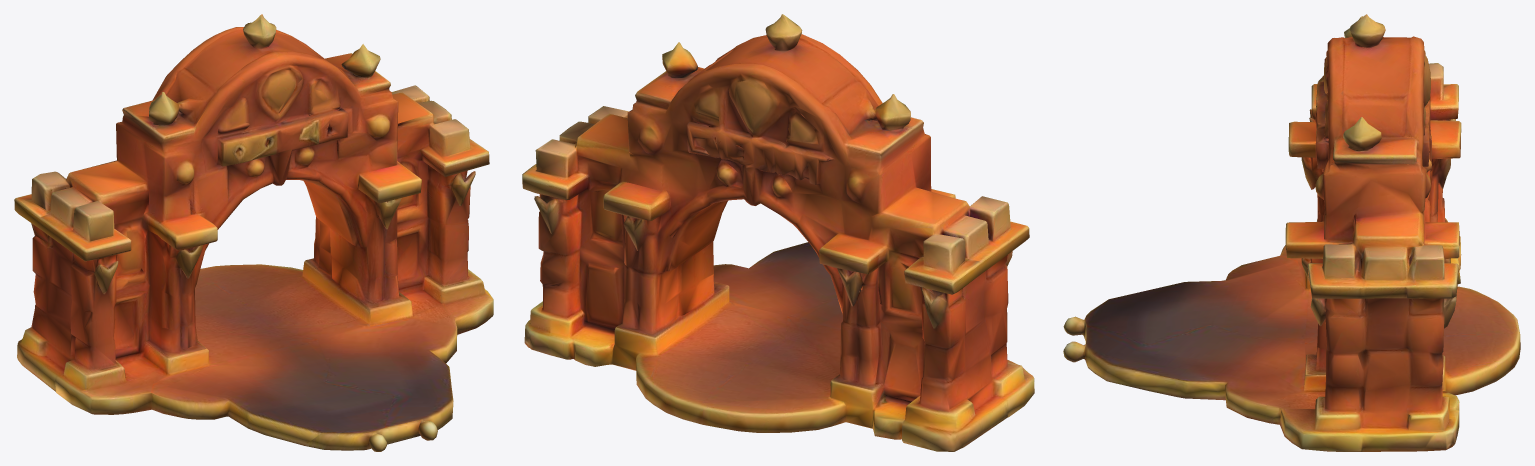
File: plaza-arch.glb
3 renders of one model, left to right at view 1: azimuth 30°, elevation 25°; view 2: azimuth 150°, elevation 25°; view 3: azimuth 270°, elevation 25°, orthographic. The views are drawn at different scales.
Visible parts, largest first — view 1: Mesh_0; view 2: Mesh_0; view 3: Mesh_0.
Part boxes in pixels (x1=…): Mesh_0: x1=14, y1=14, x2=493, y2=451; Mesh_0: x1=522, y1=14, x2=1034, y2=451; Mesh_0: x1=1063, y1=14, x2=1520, y2=451.
Size of the model in its own units: 5.4 by 4.2 by 5.06.
1 material, 1 textured.
